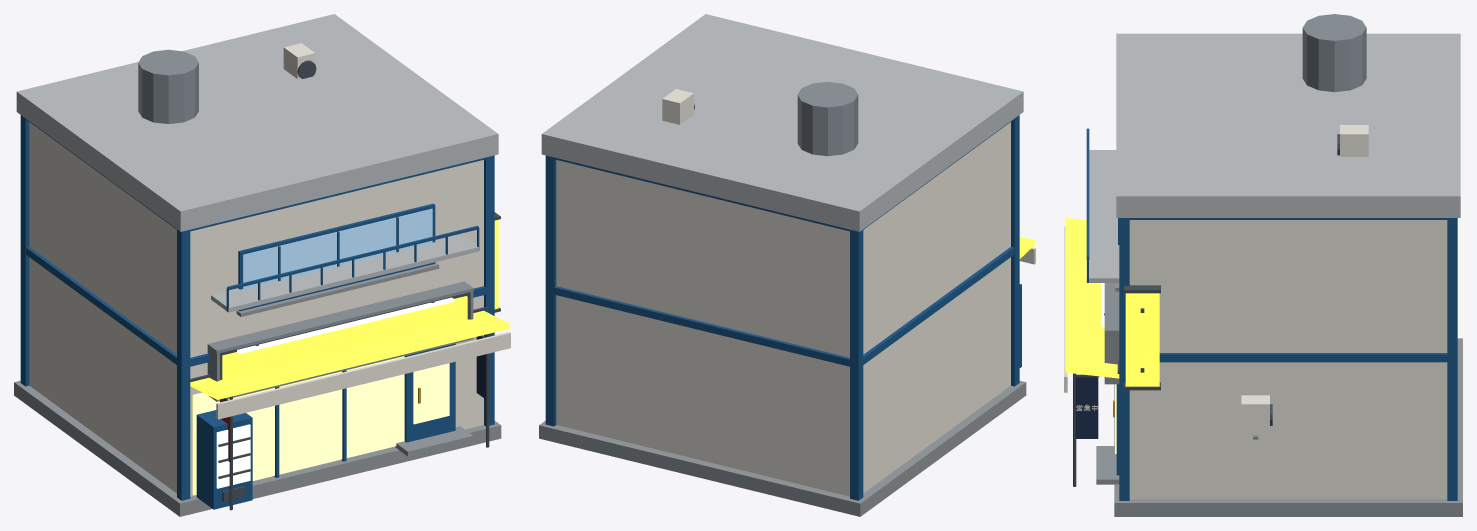
Rendered from shop_drugstore_2f.glb.
The picture shows the model from 3 angles, left to right: view 1: azimuth 30°, elevation 25°; view 2: azimuth 150°, elevation 25°; view 3: azimuth 270°, elevation 25°; orthographic projection. The views are drawn at different scales.
Visible parts, largest first — view 1: body.028, parapet.012, shop_glass.019, base.028, awning.009, win_glass.044, sign_face.027, awning_lip.009, balcony_slab.036, water_tank.013, post.132, sign_rim_top.025 (+16 smaller); view 2: body.028, parapet.012, base.028, beam.071, water_tank.013, post.133, post.135, post.132, ac_body.042, beam.072; view 3: body.028, parapet.012, base.028, awning.009, water_tank.013, balcony_slab.036, blade_board.004, post.135, beam.071, post.134, nobori_flag.015, ac_body.041 (+6 smaller).
Boxes of the visible parts, bbox=[...] form: body.028: bbox=[29, 122, 483, 496]; parapet.012: bbox=[16, 14, 498, 231]; shop_glass.019: bbox=[192, 356, 404, 495]; base.028: bbox=[14, 380, 501, 516]; awning.009: bbox=[190, 310, 510, 399]; win_glass.044: bbox=[243, 208, 432, 288]; sign_face.027: bbox=[222, 296, 467, 380]; awning_lip.009: bbox=[216, 332, 510, 419]; balcony_slab.036: bbox=[211, 234, 478, 312]; water_tank.013: bbox=[138, 49, 198, 123]; post.132: bbox=[177, 229, 190, 500]; sign_rim_top.025: bbox=[207, 281, 473, 353]; body.028: bbox=[556, 122, 1010, 496]; parapet.012: bbox=[541, 14, 1023, 231]; base.028: bbox=[539, 381, 1026, 516]; beam.071: bbox=[554, 247, 1014, 366]; water_tank.013: bbox=[797, 82, 858, 156]; post.133: bbox=[850, 229, 863, 500]; post.135: bbox=[545, 155, 556, 426]; post.132: bbox=[1011, 115, 1019, 386]; ac_body.042: bbox=[662, 89, 693, 124]; beam.072: bbox=[554, 119, 1014, 231]; body.028: bbox=[1129, 220, 1447, 498]; parapet.012: bbox=[1116, 33, 1460, 217]; base.028: bbox=[1114, 338, 1462, 516]; awning.009: bbox=[1065, 218, 1119, 378]; water_tank.013: bbox=[1302, 14, 1366, 92]; balcony_slab.036: bbox=[1086, 150, 1119, 282]; blade_board.004: bbox=[1125, 293, 1159, 386]; post.135: bbox=[1447, 218, 1457, 500]; beam.071: bbox=[1159, 353, 1447, 362]; post.134: bbox=[1119, 218, 1129, 500]; nobori_flag.015: bbox=[1075, 377, 1098, 438]; ac_body.041: bbox=[1241, 395, 1269, 434].
Bounding box in the file's own units: 7.84 × 8 × 7.75.
